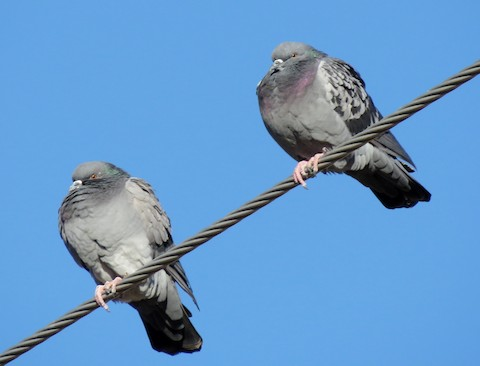pigeon: (251, 38, 439, 212), (55, 158, 211, 357)
